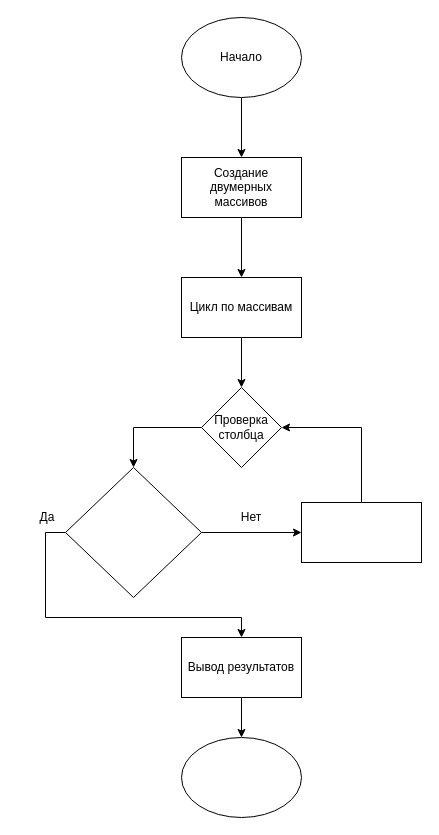
Image size: 439x835. Some labels were removed from this diagram. The box of each missing label's shape, as (x1, y1, x2, y2) in pixels:
Все элементы кратны 5 или 7?: (64, 466, 202, 598)
Конец: (180, 736, 302, 818)
Переход к следующему столбцу: (300, 502, 422, 562)
